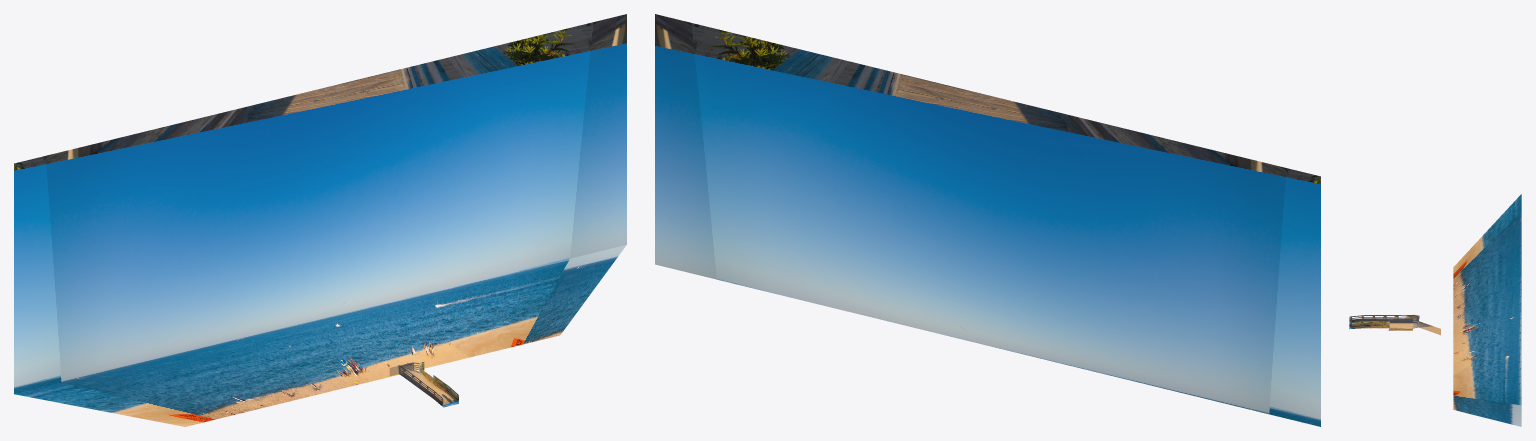
File: beach1.gltf
3 views of the same model, side by side, from view 1: azimuth 30°, elevation 25°; view 2: azimuth 150°, elevation 25°; view 3: azimuth 270°, elevation 25° (orthographic). The views are drawn at different scales.
Visible parts, largest first — view 1: Plane.001, Plane; view 2: Plane.001; view 3: Plane.001, Plane.
Part boxes in pixels (x1=…): Plane.001: x1=14, y1=14, x2=626, y2=426; Plane: x1=389, y1=362, x2=458, y2=407; Plane.001: x1=655, y1=14, x2=1320, y2=426; Plane.001: x1=1453, y1=194, x2=1521, y2=426; Plane: x1=1349, y1=314, x2=1440, y2=335.
Bounding box in the file's own units: 79.59 × 32.59 × 24.82.
2 materials, 2 textured.
